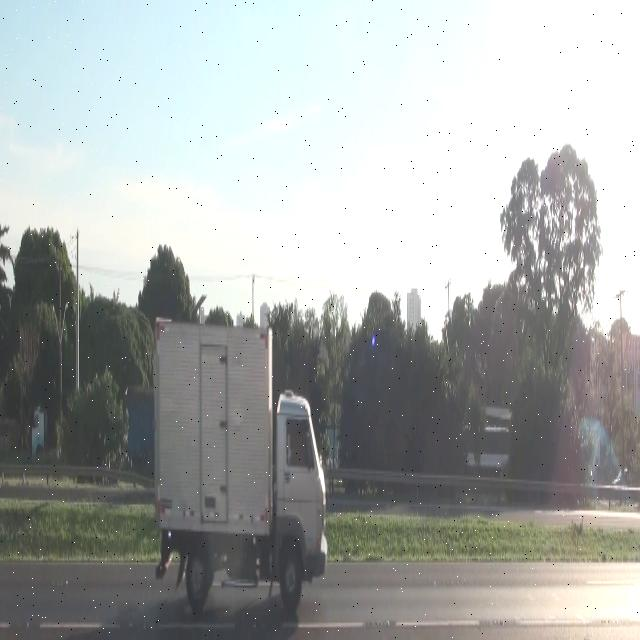-axle: (187, 542, 210, 606), (282, 548, 302, 608)
